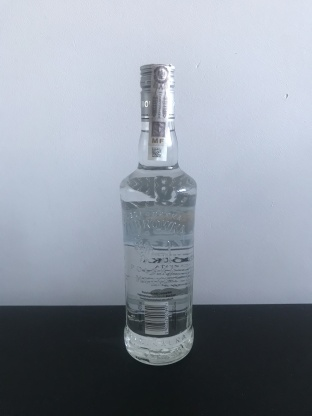nakretka: (137, 60, 177, 124)
